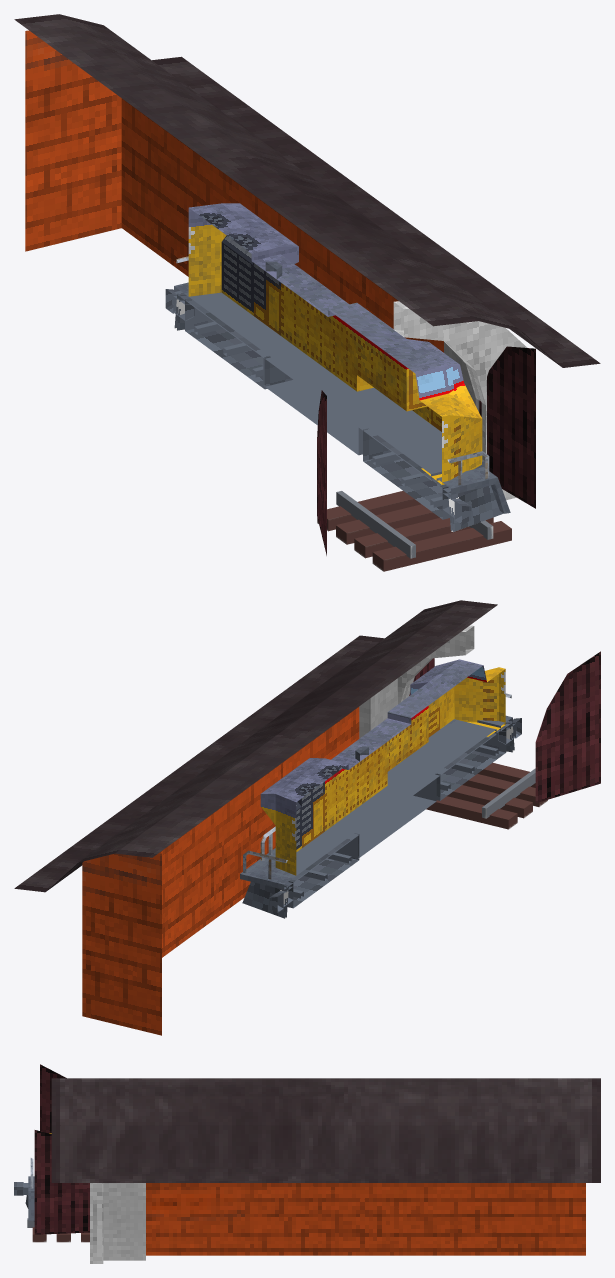
The model's file is loco-shed.blend.glb.
The picture shows the model from 3 angles, top to bottom: view 1: azimuth 30°, elevation 25°; view 2: azimuth 150°, elevation 25°; view 3: azimuth 270°, elevation 25°; orthographic projection. The views are drawn at different scales.
Parts seen in each view (by area): view 1: locomotive, Cube.002, Cube, strait, Plane.001, loco-front-truck, Cube.003, loco-back-truck, Plane.002; view 2: Cube, locomotive, Cube.002, Plane.002, strait, loco-back-truck, loco-front-truck, Cube.003, Cube.001; view 3: Cube.002, Cube, Plane.001, Cube.001, Cube.003, Plane.002, strait, locomotive.
Part boxes in pixels (x1,y1,x2,y2): locomotive: (174,203,510,513); Cube.002: (14,14,600,367); Cube: (25,30,443,352); strait: (317,491,511,571); Plane.001: (479,346,535,508); loco-front-truck: (363,428,503,531); Cube.003: (393,301,527,500); loco-back-truck: (165,289,292,389); Plane.002: (317,390,326,555); Cube: (82,706,359,1035); locomotive: (240,659,512,889); Cube.002: (14,600,497,892); Plane.002: (535,651,600,803); strait: (426,762,547,829); loco-back-truck: (242,833,359,918); loco-front-truck: (435,718,521,800); Cube.003: (397,625,474,704); Cube.001: (359,678,397,738); Cube.002: (51,1078,600,1182); Cube: (146,1183,585,1255); Plane.001: (34,1130,89,1234); Cube.001: (103,1183,145,1260); Cube.003: (90,1183,103,1263); Plane.002: (40,1064,66,1133); strait: (27,1218,89,1242); locomotive: (28,1133,51,1220).
Size of the model in its own units: 4.41 by 3.33 by 12.08.
4 materials, 4 textured.
